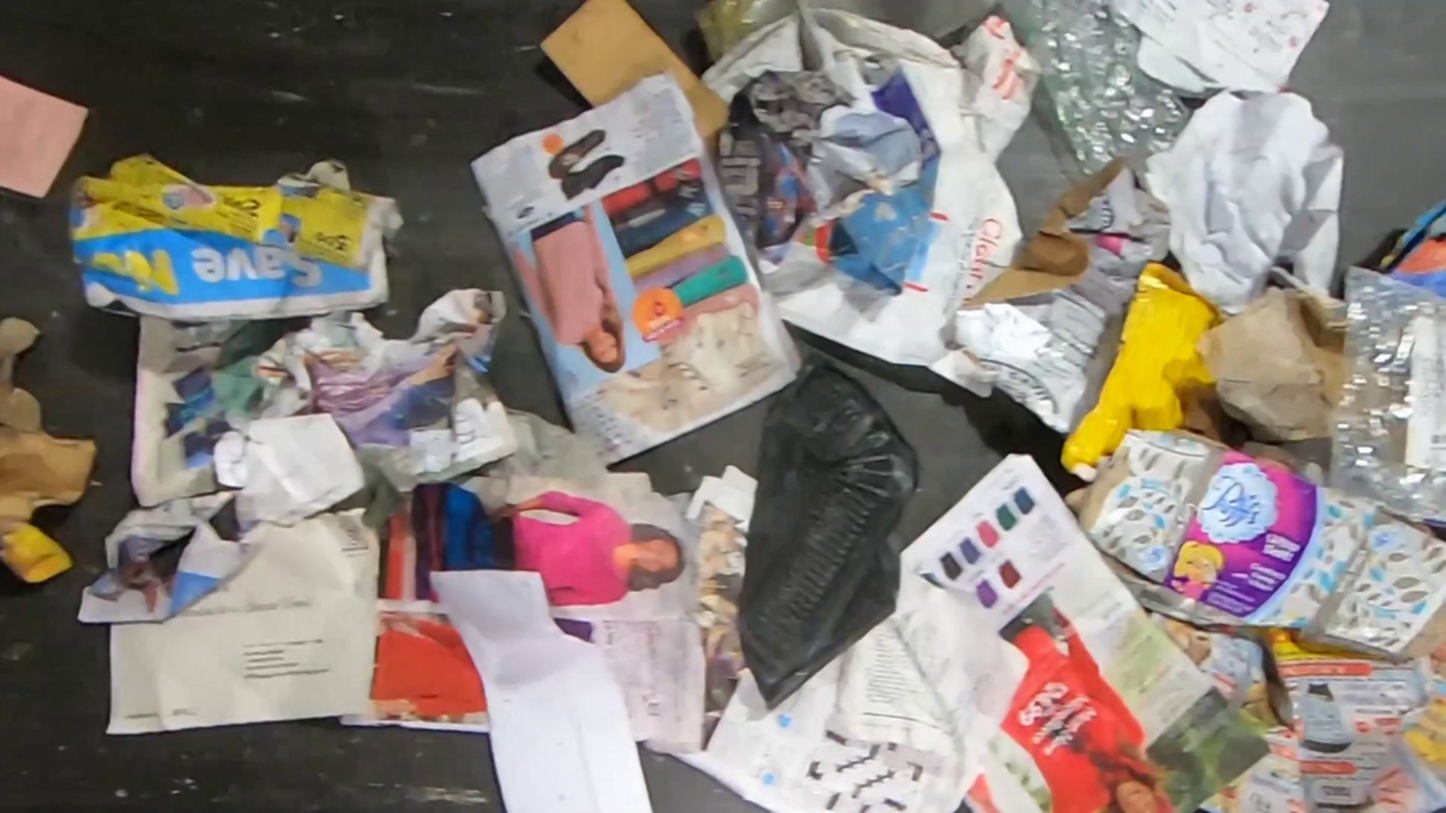cardboard: (1061, 426, 1446, 663), (953, 159, 1172, 437), (535, 1, 735, 146), (0, 311, 101, 584), (829, 63, 944, 298), (1199, 289, 1347, 440), (1375, 198, 1446, 297)
plastic: (737, 351, 922, 713), (994, 0, 1192, 182), (1325, 263, 1446, 529), (693, 0, 997, 61)
